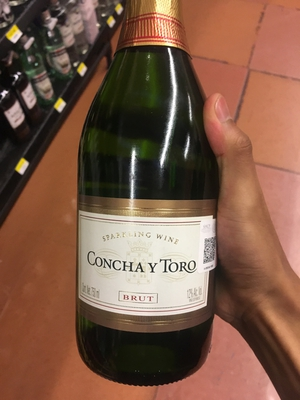brut: (73, 12, 230, 378)
